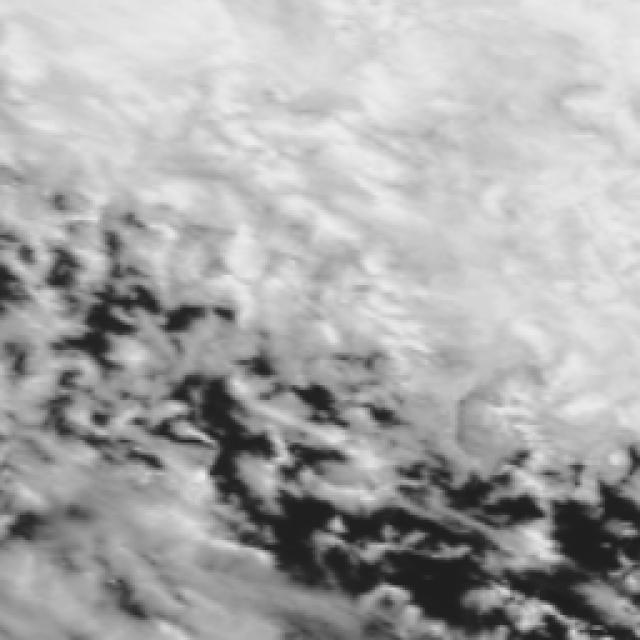CB: (67, 0, 626, 107), (465, 57, 640, 335), (266, 77, 463, 250)
